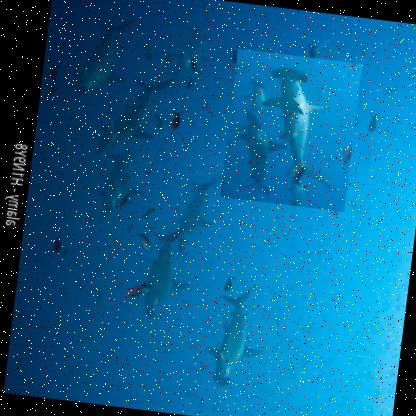hammerhead_Shark: (218, 47, 361, 211), (195, 276, 290, 397)
